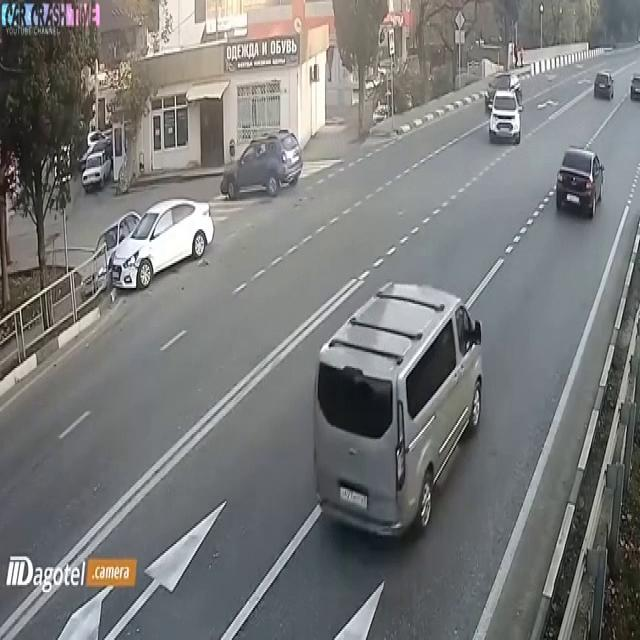accident: (76, 176, 204, 299)
